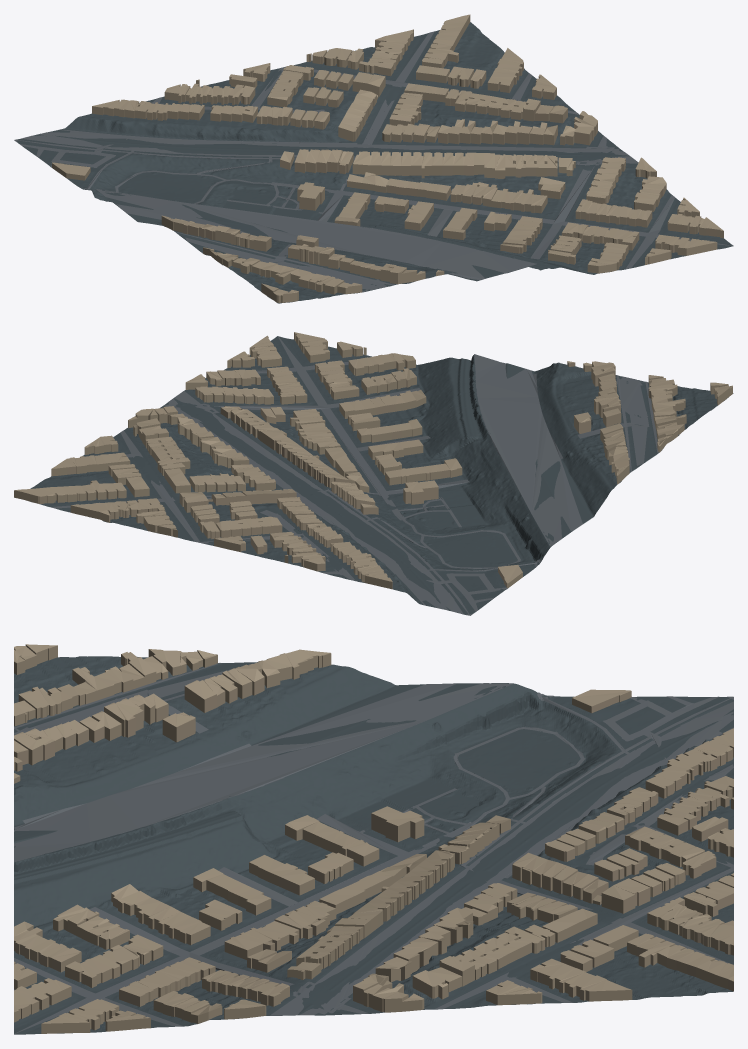
The model's file is epsg26910-1428-10870.lod0.glb.
3 views of the same model, one above another, from view 1: azimuth 30°, elevation 25°; view 2: azimuth 150°, elevation 25°; view 3: azimuth 270°, elevation 25° (orthographic). The views are drawn at different scales.
Parts seen in each view (by area): view 1: epsg26910-1428-10870-lod0; view 2: epsg26910-1428-10870-lod0; view 3: epsg26910-1428-10870-lod0.
Boxes of the visible parts, x1,y1,x2,y2 form: epsg26910-1428-10870-lod0: (14,14,733,303); epsg26910-1428-10870-lod0: (14,332,733,615); epsg26910-1428-10870-lod0: (14,644,733,1034).
Bounding box in the file's own units: 384 × 50.65 × 384.
